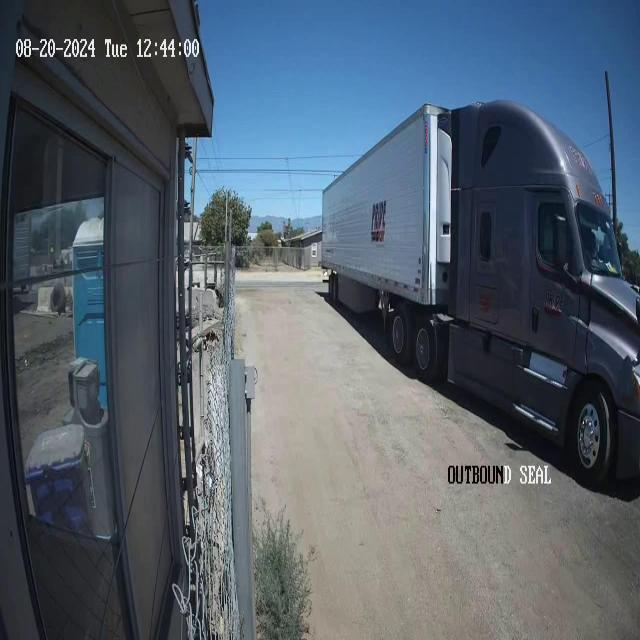TRUCK_IN: (320, 96, 639, 491)
